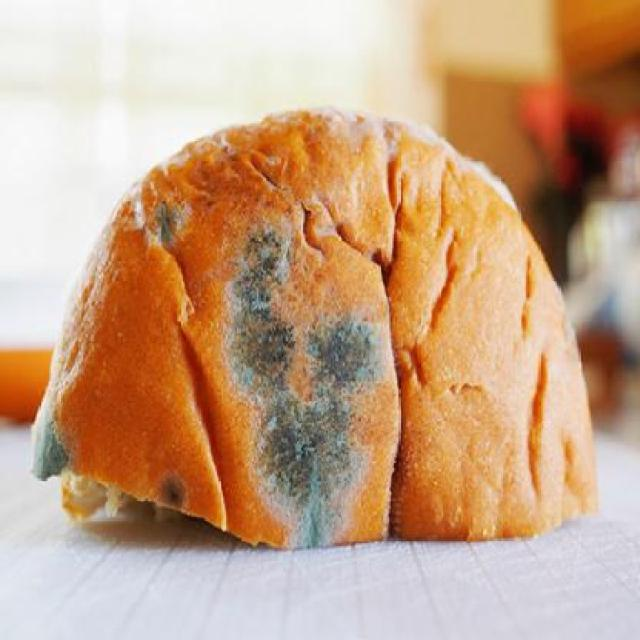mold_bread: (245, 400, 366, 552), (301, 310, 390, 391), (219, 309, 296, 395), (218, 227, 294, 305), (27, 400, 71, 488), (148, 195, 187, 250), (153, 469, 193, 514)
